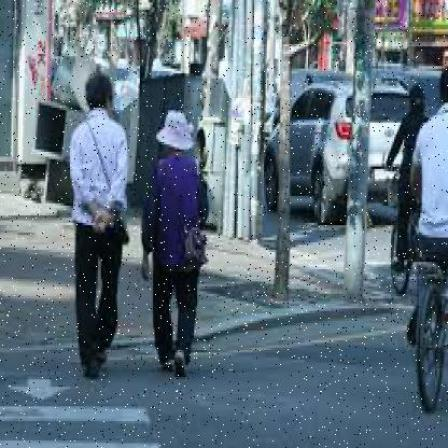silver: (69, 75, 128, 379), (144, 113, 207, 376)
